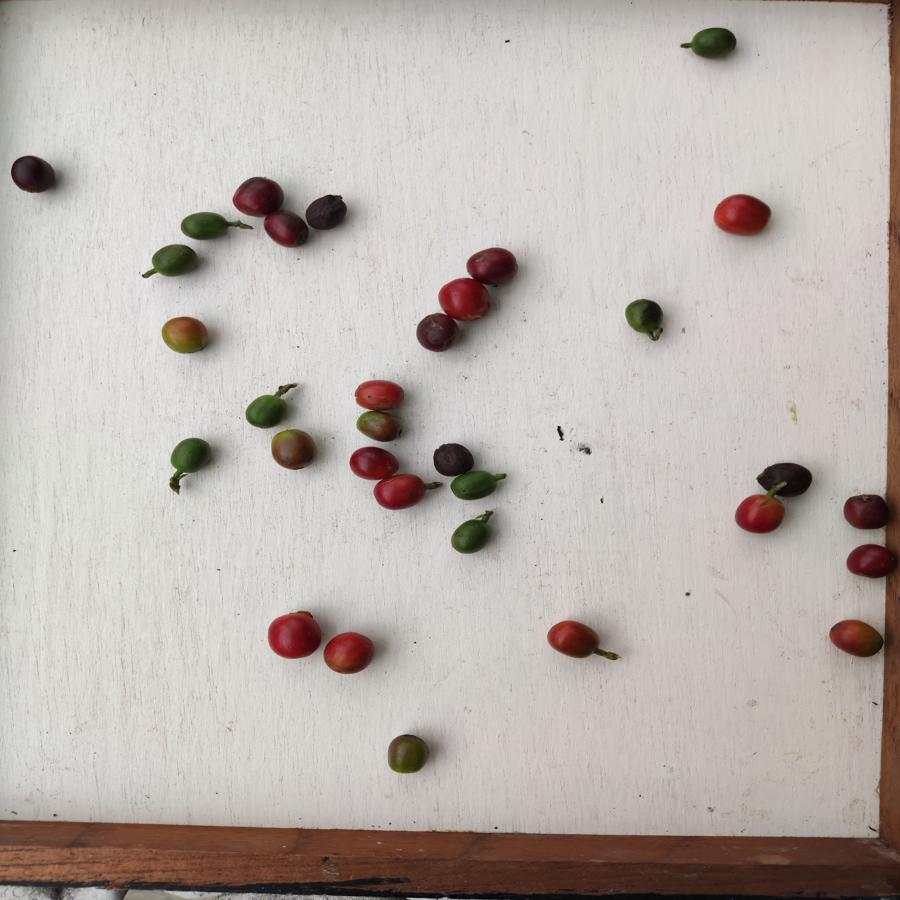Inmaduro: (619, 296, 670, 337), (687, 24, 740, 59), (446, 518, 494, 555), (147, 243, 199, 277), (245, 393, 290, 430), (177, 211, 231, 241), (448, 473, 501, 503), (169, 436, 211, 473)
Maduro: (265, 610, 321, 660), (710, 193, 772, 236), (437, 276, 492, 323), (545, 618, 601, 664), (731, 490, 787, 536), (323, 631, 375, 677), (374, 473, 430, 512), (349, 378, 410, 409)
Pinton: (827, 617, 885, 660), (383, 732, 432, 777), (159, 314, 211, 355), (270, 427, 316, 471), (354, 411, 407, 444)
Sobremaduro: (6, 151, 57, 195), (464, 244, 517, 285), (842, 541, 899, 579), (232, 176, 286, 216), (843, 489, 893, 530), (755, 460, 813, 495), (262, 210, 312, 250), (415, 313, 458, 356), (305, 190, 349, 231), (349, 444, 401, 478), (428, 444, 478, 469)
